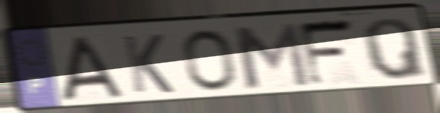A: (60, 34, 126, 104)
F: (295, 16, 358, 89)
K: (120, 32, 177, 95)
M: (228, 21, 313, 91)
O: (180, 28, 239, 94)
Q: (360, 16, 431, 82)
